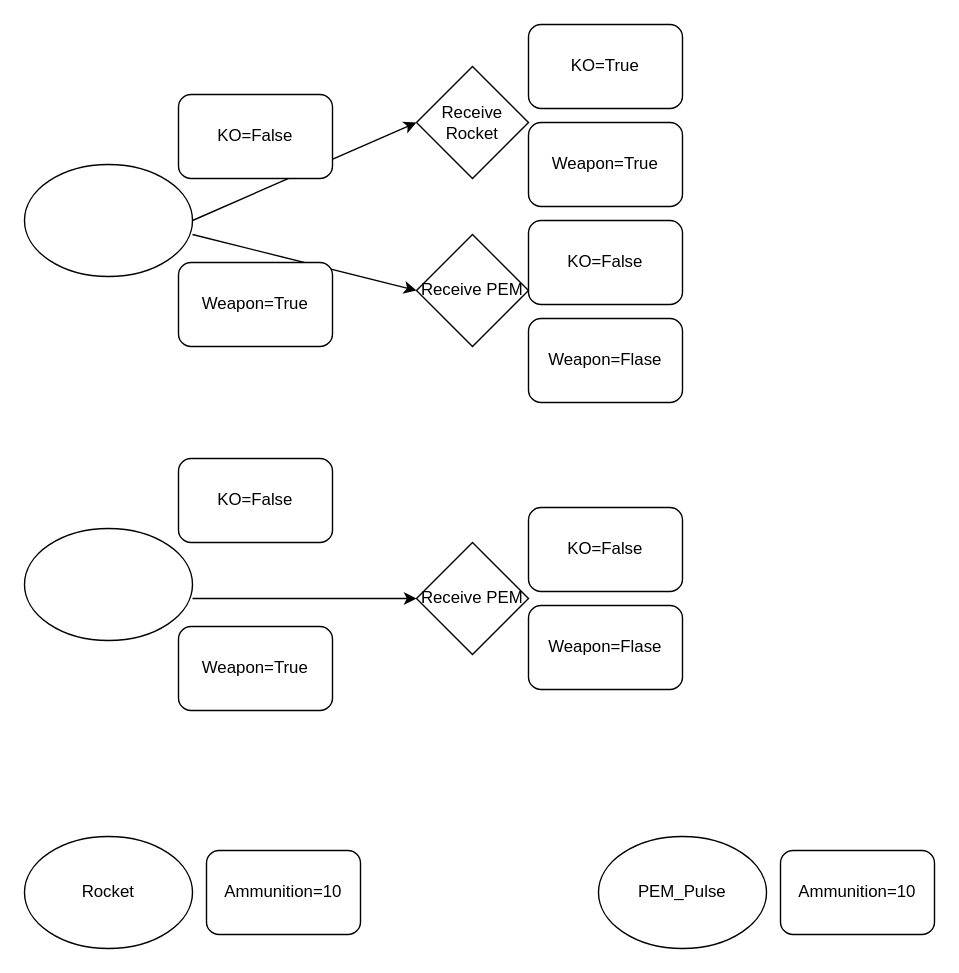
The diagram is 959 pixels wide and 973 high, and some of its shapes have lost their labels. Each missing label, with the centre of its shape:
Jocker: [107,219]
Jocker Villain: [107,583]
